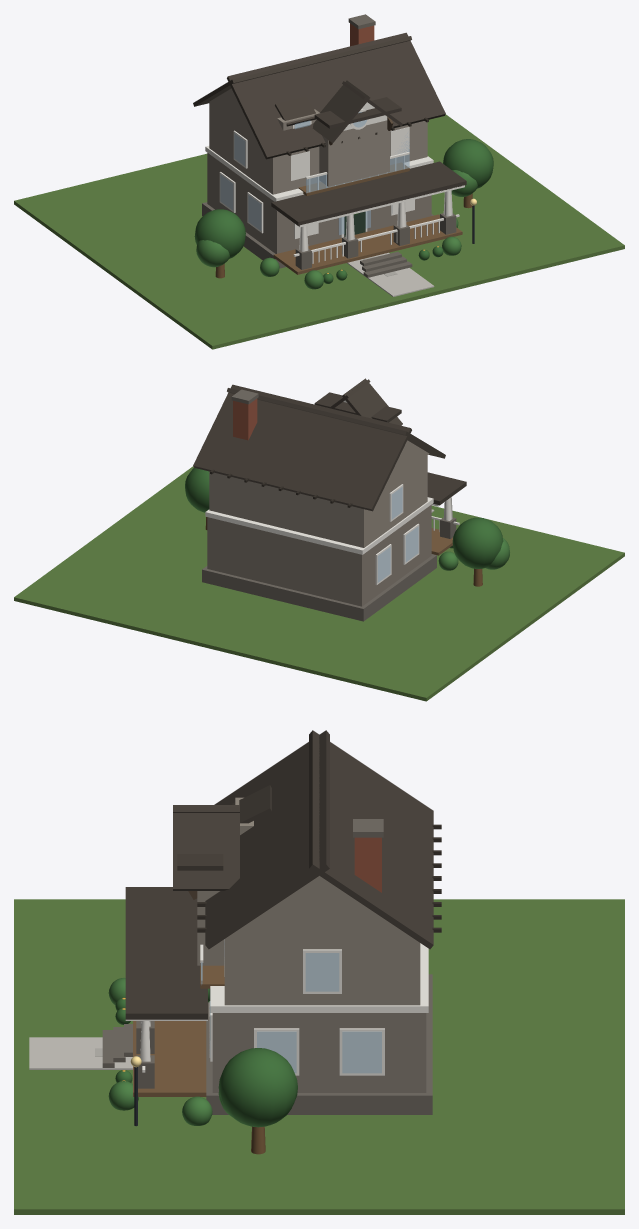
The model's file is modelo-exemplo.gltf.
3 views of the same model, one above another, from view 1: azimuth 30°, elevation 25°; view 2: azimuth 150°, elevation 25°; view 3: azimuth 270°, elevation 25° (orthographic). The views are drawn at different scales.
Bounding box in the file's own units: 24 × 10.05 × 20.
